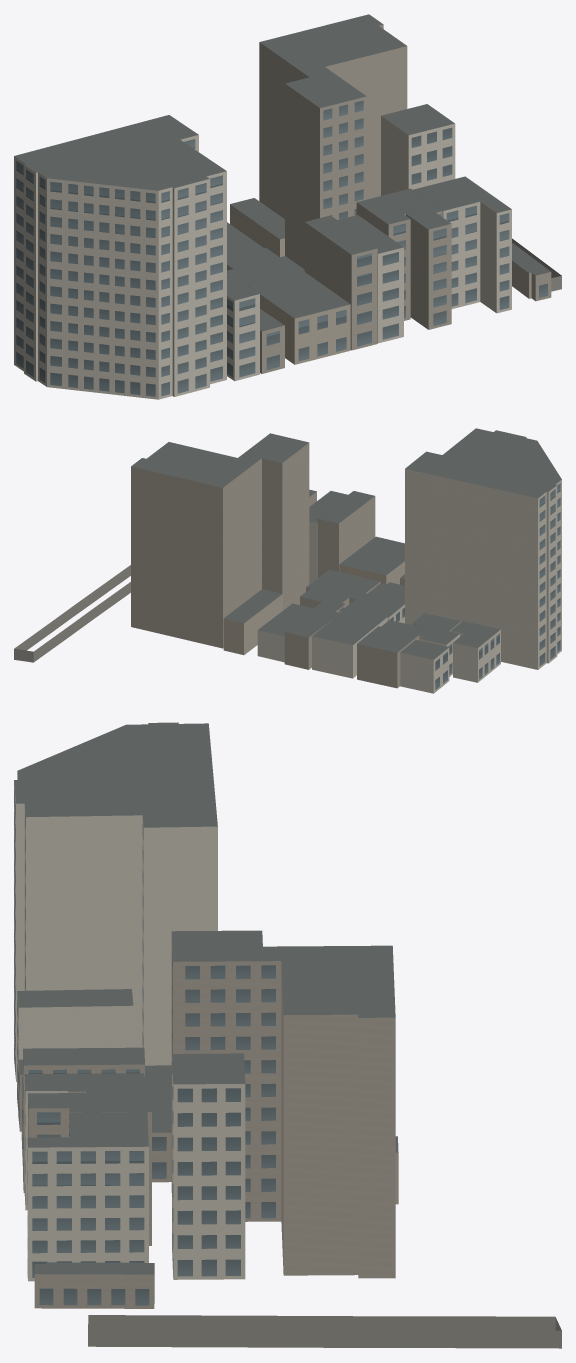
3 renders of one model, top to bottom at view 1: azimuth 30°, elevation 25°; view 2: azimuth 150°, elevation 25°; view 3: azimuth 270°, elevation 25°, orthographic. The views are drawn at different scales.
Parts seen in each view (by area): view 1: cell-e009-n000_base_plaster, cell-e009-n000_base_roof, cell-e009-n000_base_tile-wall, cell-e009-n000_base_glass, cell-e009-n000_base_stone; view 2: cell-e009-n000_base_tile-wall, cell-e009-n000_base_plaster, cell-e009-n000_base_roof, cell-e009-n000_base_granite, cell-e009-n000_base_glass, cell-e009-n000_base_stone; view 3: cell-e009-n000_base_plaster, cell-e009-n000_base_tile-wall, cell-e009-n000_base_roof, cell-e009-n000_base_glass, cell-e009-n000_base_granite.
Boxes of the visible parts, x1,y1,x2,y2 form: cell-e009-n000_base_plaster: [14, 116, 511, 399]; cell-e009-n000_base_roof: [14, 14, 550, 331]; cell-e009-n000_base_tile-wall: [227, 24, 551, 373]; cell-e009-n000_base_glass: [16, 100, 547, 396]; cell-e009-n000_base_stone: [230, 204, 350, 364]; cell-e009-n000_base_tile-wall: [131, 443, 418, 688]; cell-e009-n000_base_plaster: [257, 437, 561, 693]; cell-e009-n000_base_roof: [131, 428, 561, 659]; cell-e009-n000_base_granite: [14, 565, 130, 662]; cell-e009-n000_base_glass: [390, 483, 560, 689]; cell-e009-n000_base_stone: [223, 561, 461, 654]; cell-e009-n000_base_plaster: [14, 772, 245, 1281]; cell-e009-n000_base_tile-wall: [18, 932, 395, 1308]; cell-e009-n000_base_roof: [14, 722, 398, 1274]; cell-e009-n000_base_glass: [14, 790, 275, 1305]; cell-e009-n000_base_granite: [88, 1315, 561, 1348].
Size of the model in its own units: 94.55 by 39.69 by 66.47.
Materials: 6 (5 with a texture image).
